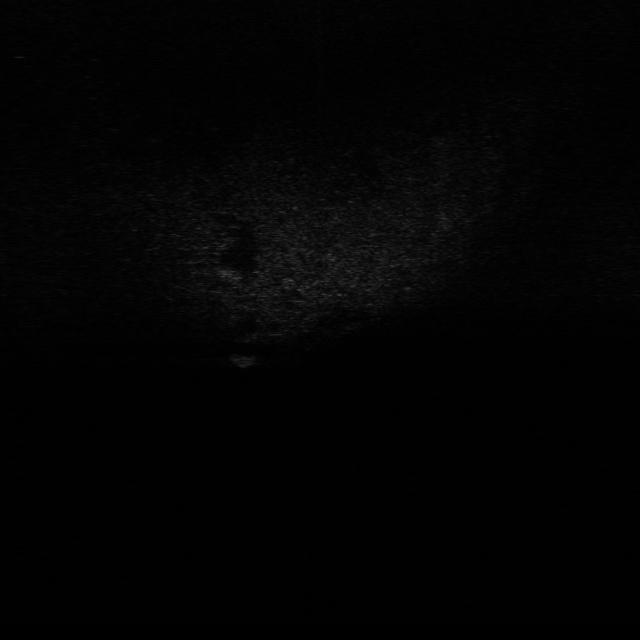cube: (228, 347, 260, 373)
